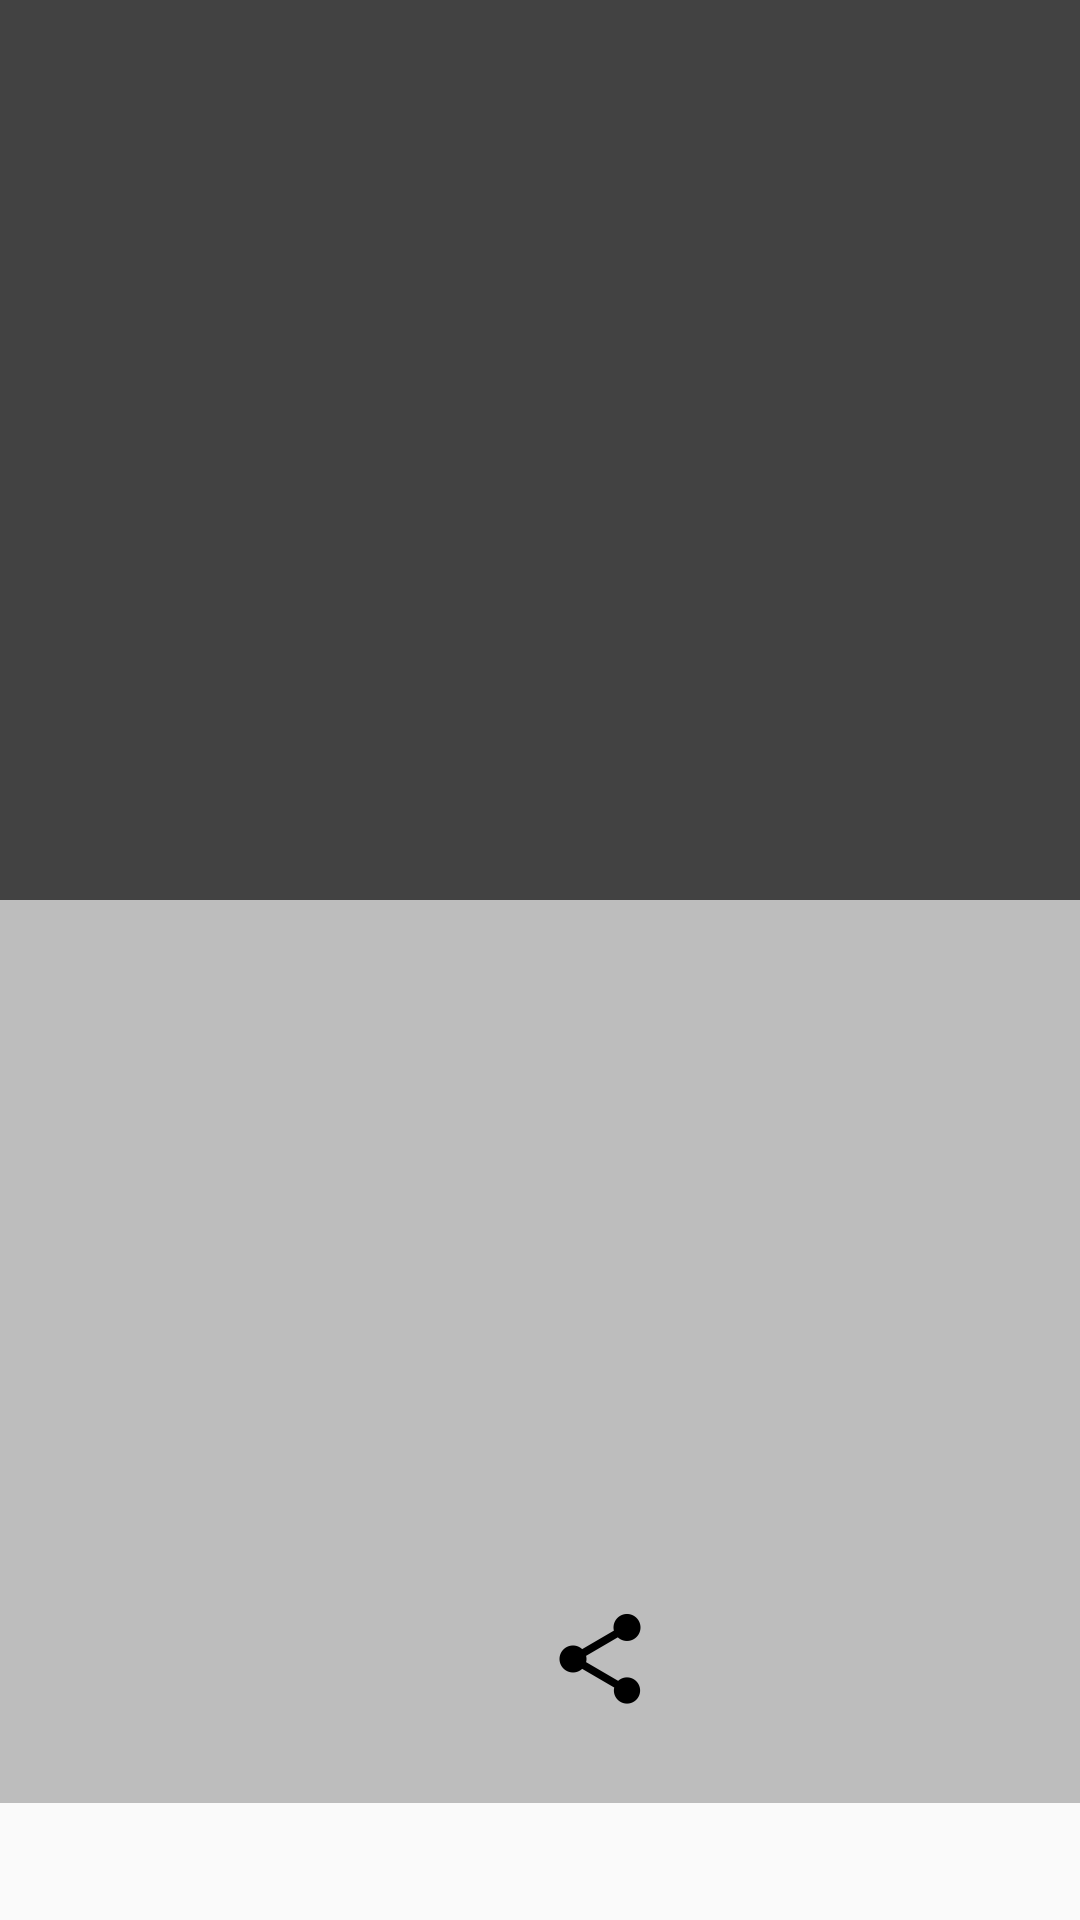

Icons on this 1080 × 1920 Android screen, each with the point to tap as (x=x, y=y):
share: (x=600, y=1659)
